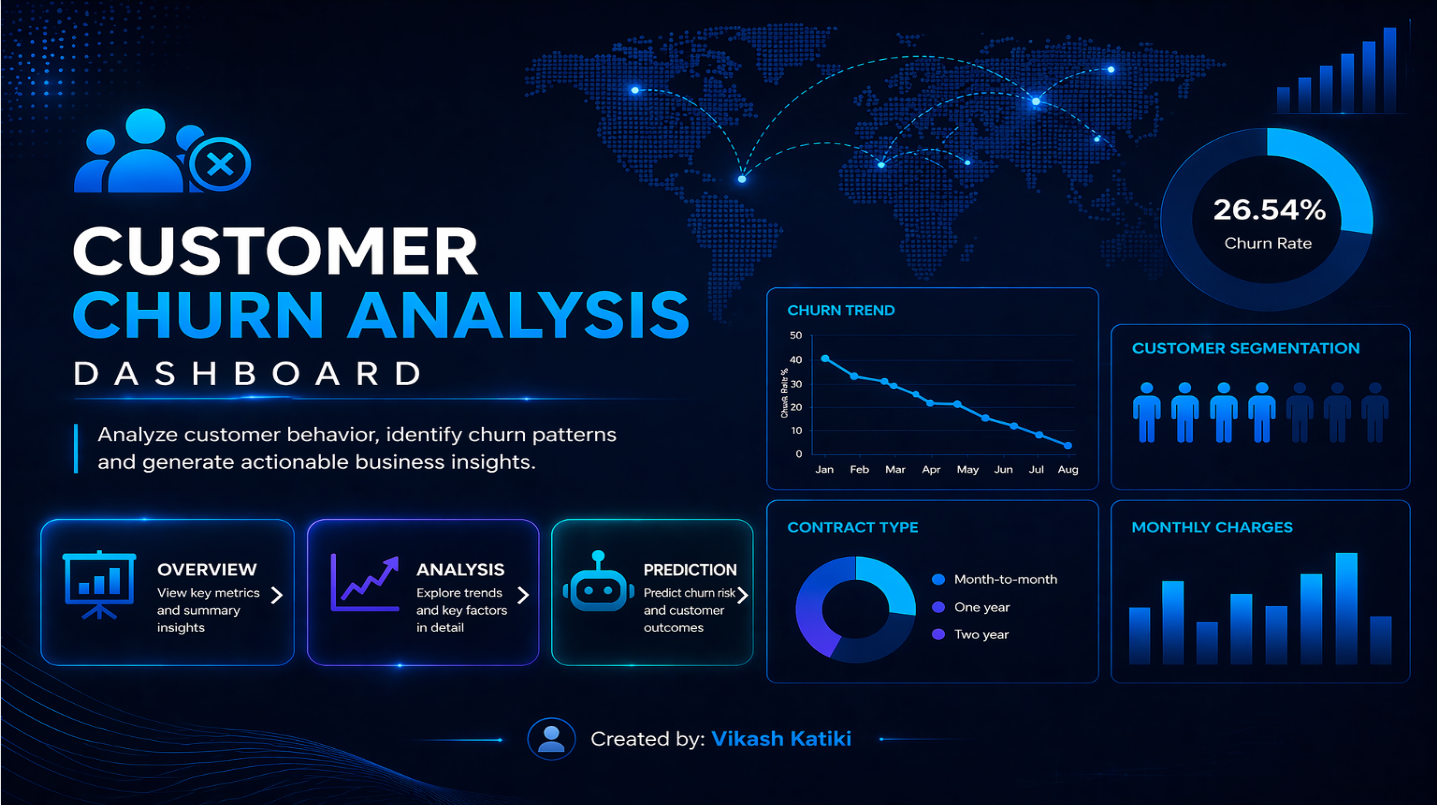

This screenshot's page, from the dashboard's own definition file:
{"tool":"powerbi","page":{"name":"Home","canvas":[1280,720],"ordinal":0},"visuals":[{"type":"actionButton","box":[99.7,512.6,153.1,39.2],"z":0},{"type":"actionButton","box":[534.3,512.9,140,37.1],"z":1},{"type":"actionButton","box":[334.3,511.4,154.3,38.6],"z":2}]}

Visuals, with their boxes in screenshot pixels (x1, y1, x2, y2), scaled from the page's 1280x720 canvas onto the 1437x805 screenshot:
actionButton: 112 573 284 617
actionButton: 600 573 757 615
actionButton: 375 572 549 615
